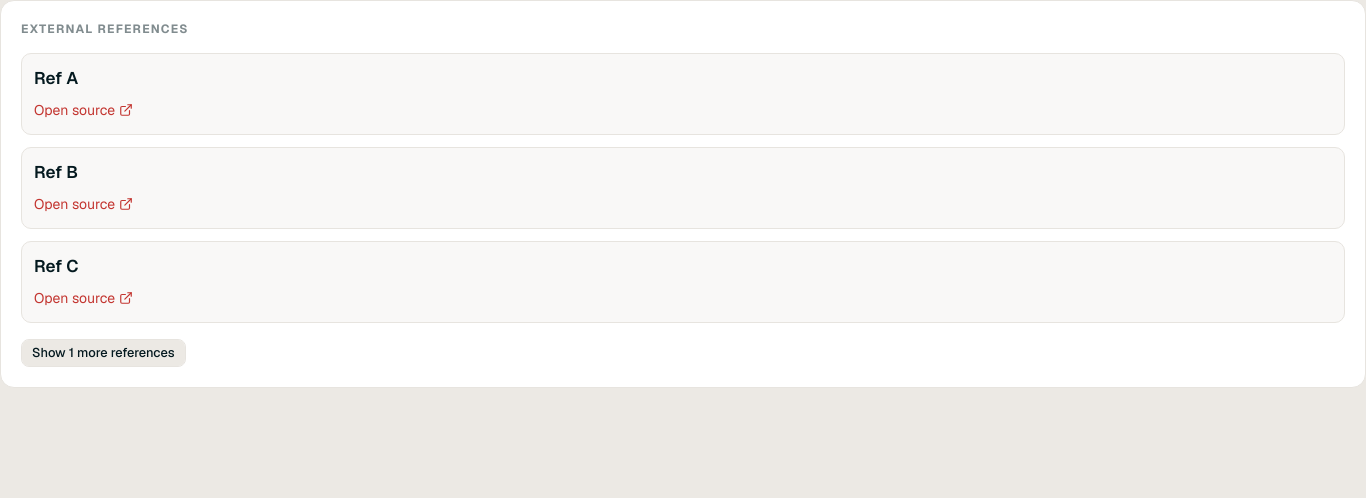
Test: ExternalReferencesSection › shows only default visible refs and expands on click
Expected: the text "Ref A" is shown, [34,66,78,92]
Expected: the text "Ref C" is shown, [34,254,79,280]
Click the button "Show 1 more references": click(103, 353) [21,339,186,367]
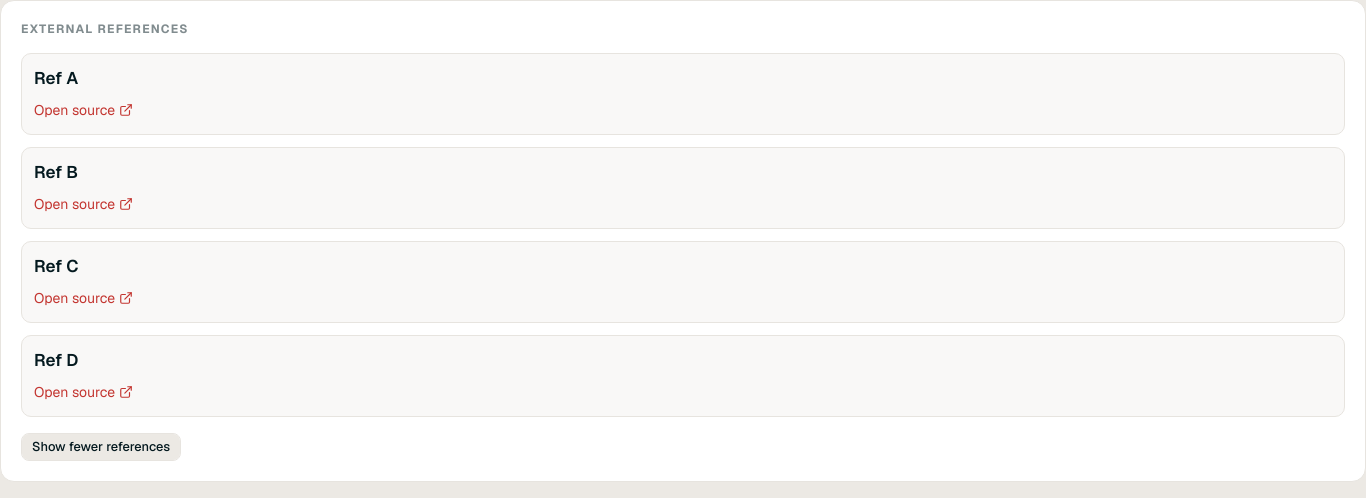
Result: the text "Ref D" is shown at [34,348,78,374]
Result: the button "Show fewer references" is shown at [21,433,181,461]
